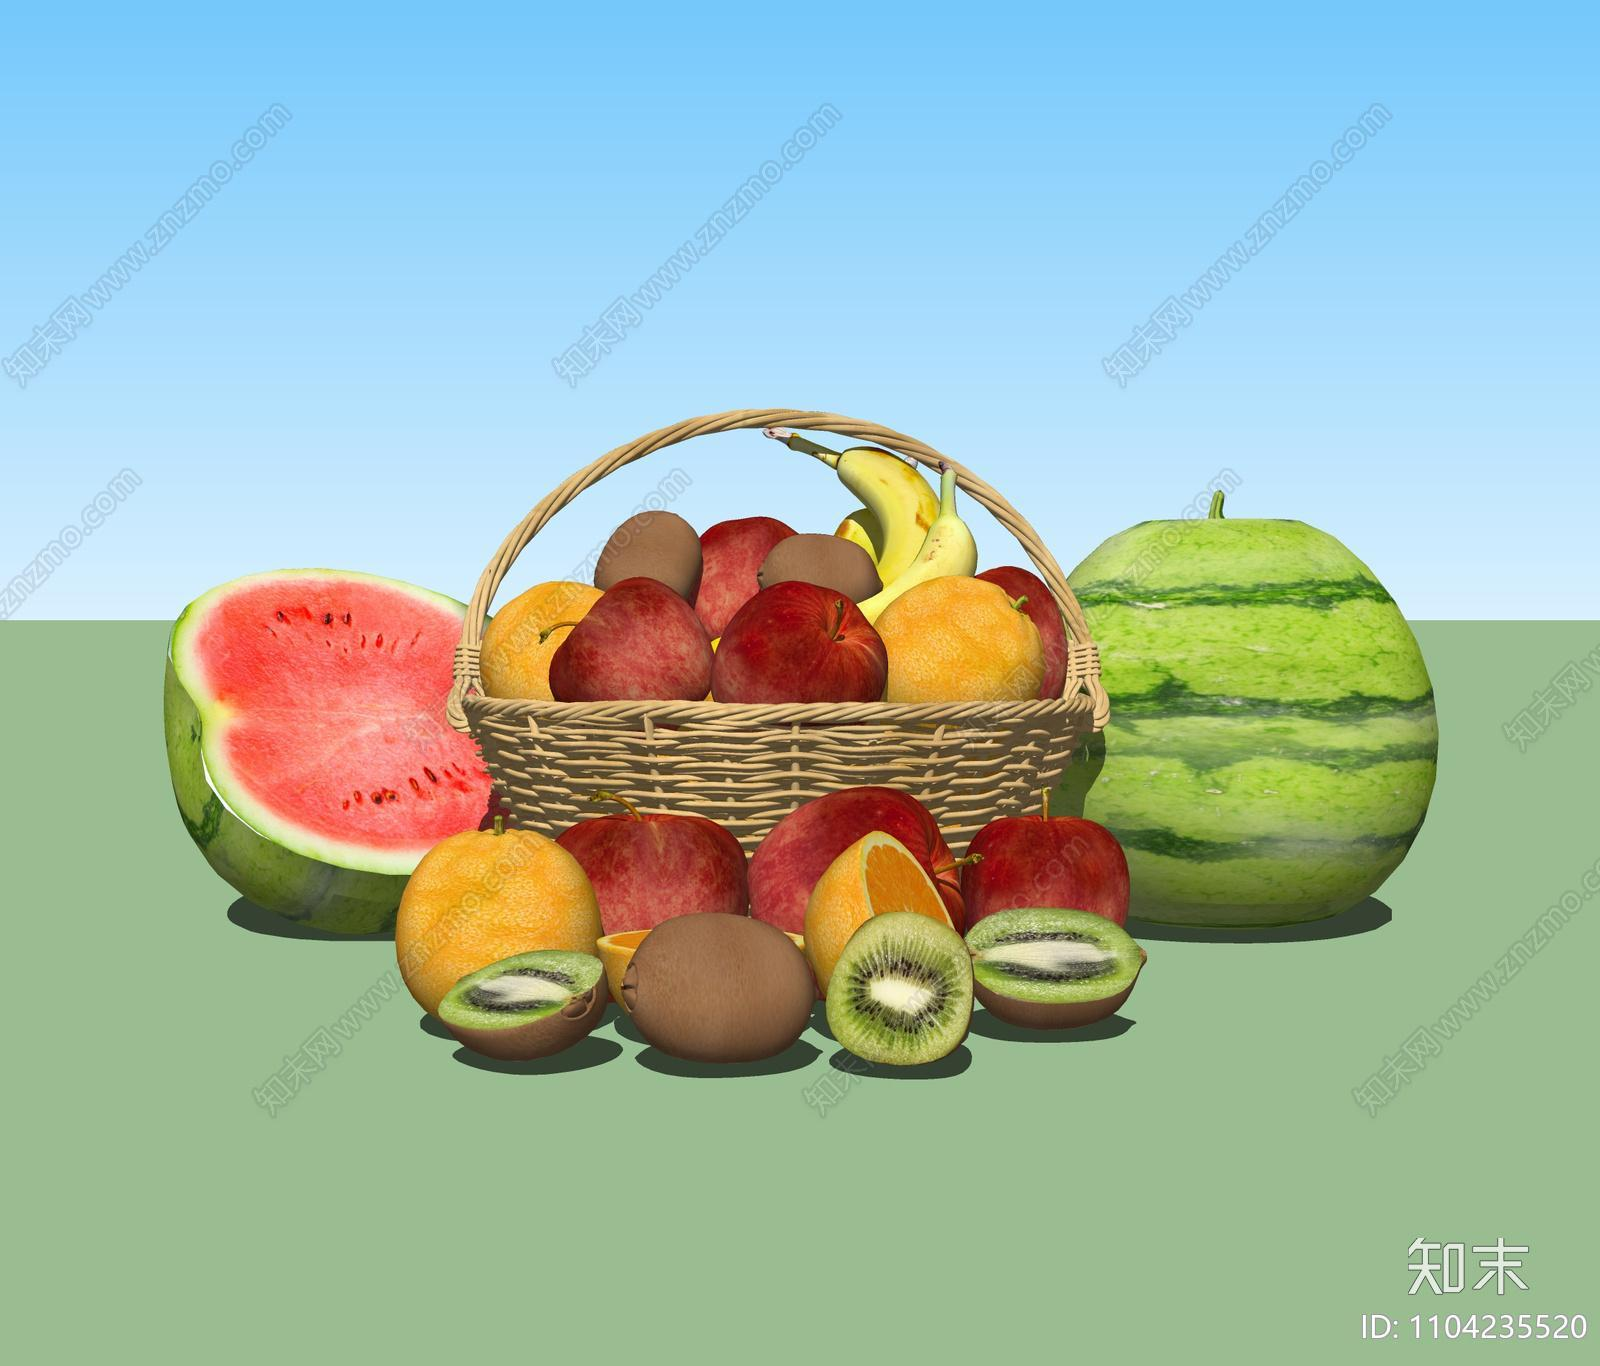apple: (746, 783, 962, 926), (555, 810, 745, 945), (711, 580, 891, 705), (549, 576, 715, 707), (966, 813, 1131, 932), (691, 515, 787, 632)
